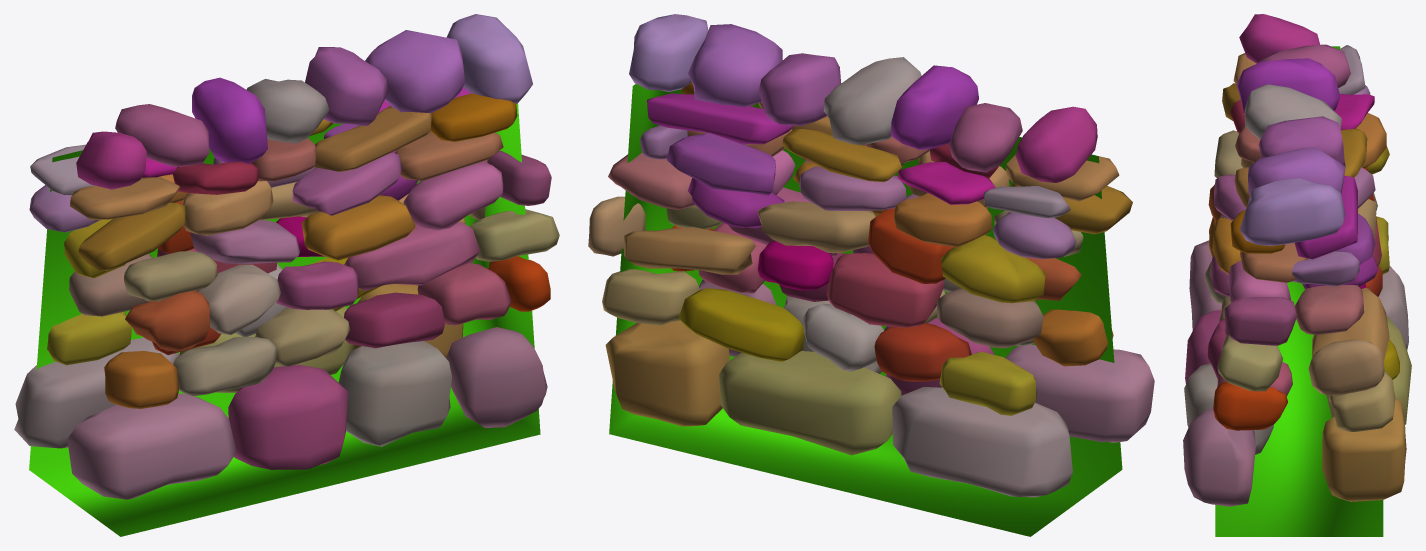
The model's file is SM_Prop_wall_stone_16.glb.
The picture shows the model from 3 angles, left to right: view 1: azimuth 30°, elevation 25°; view 2: azimuth 150°, elevation 25°; view 3: azimuth 270°, elevation 25°; orthographic projection. The views are drawn at different scales.
Visible parts, largest first — view 1: SM_Prop_wall_stone_16; view 2: SM_Prop_wall_stone_16; view 3: SM_Prop_wall_stone_16.
Part boxes in pixels (x1,y1,x2,y2): SM_Prop_wall_stone_16: (14, 14, 559, 536); SM_Prop_wall_stone_16: (588, 14, 1154, 536); SM_Prop_wall_stone_16: (1183, 14, 1411, 536).
Size of the model in its own units: 2.26 by 1.73 by 1.01.
